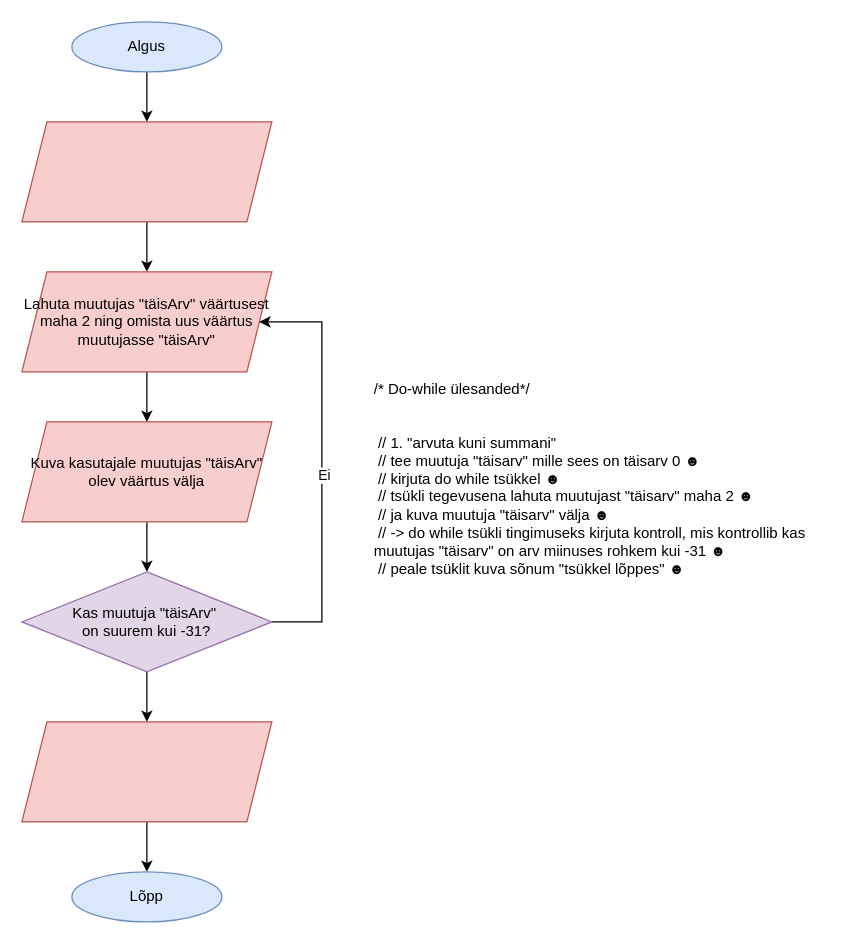
Image size: 844x944. Some labels were removed from this diagram. The box of each missing label's shape, as (x1, y1, x2, y2) in pixels:
Kuva kasutajale sõnum: "Tsükkel lõppes": (21, 721, 272, 822)
Tekita muutuja "täisArv" mille sisse omistame algväärtuseks täisarvu 0: (21, 121, 272, 222)
